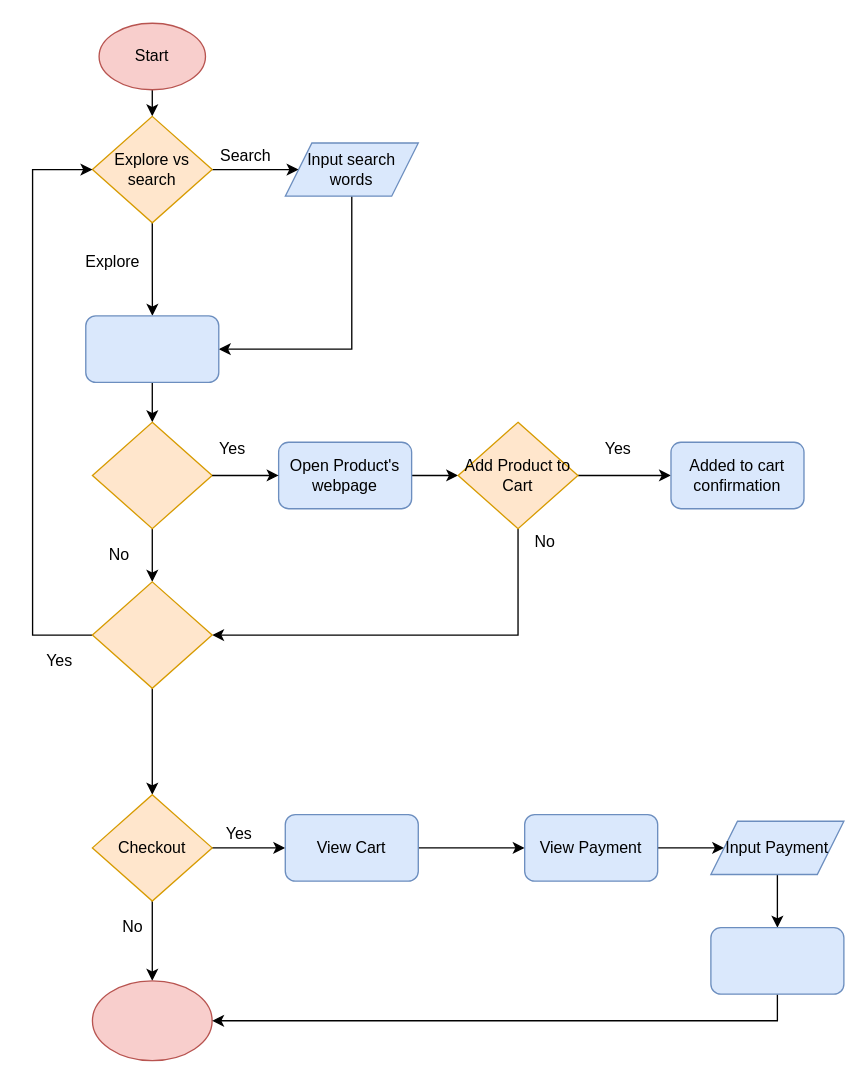
The diagram is 867 pixels wide and 1084 high, and some of its shapes have lost their labels. The box of each missing label's shape, as (x1, y1, x2, y2) in pixels:
Continue Shopping: (91, 581, 212, 688)
Display Products: (84, 315, 219, 382)
Leave website: (91, 980, 212, 1061)
Order confirmation and email: (710, 926, 844, 994)
View Specific Product: (91, 421, 212, 529)
